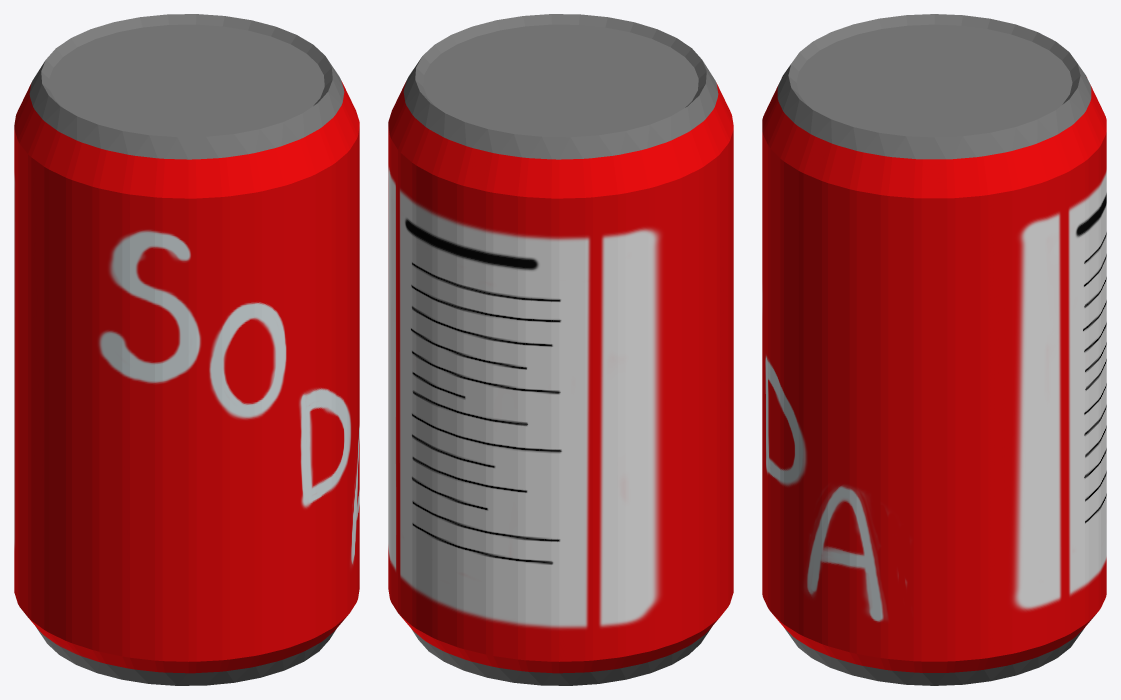
File: RedCan.fbx
3 views of the same model, side by side, from view 1: azimuth 30°, elevation 25°; view 2: azimuth 150°, elevation 25°; view 3: azimuth 270°, elevation 25° (orthographic).
Parts seen in each view (by area): view 1: Cylinder; view 2: Cylinder; view 3: Cylinder.
Part boxes in pixels (x1=…): Cylinder: x1=14, y1=14, x2=359, y2=685; Cylinder: x1=388, y1=14, x2=733, y2=685; Cylinder: x1=762, y1=14, x2=1106, y2=685.
Size of the model in its own units: 71.68 by 126 by 71.68.
2 materials, 1 textured.
